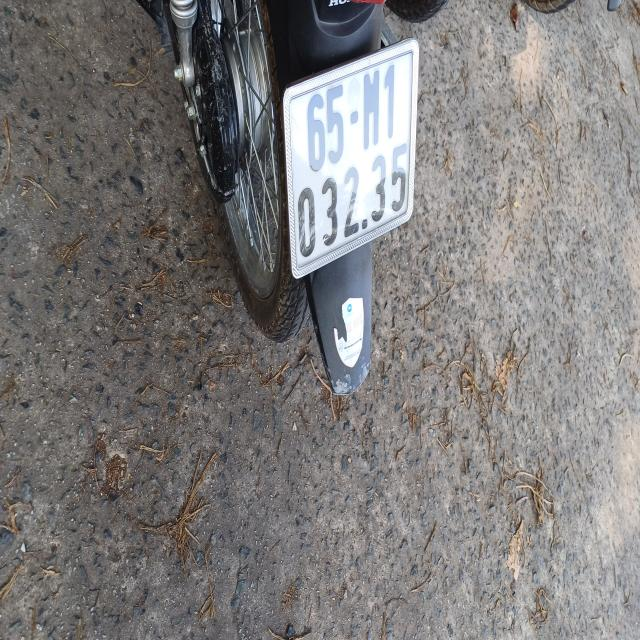0: (294, 187, 319, 253)
1: (380, 58, 398, 141)
2: (343, 166, 362, 235)
3: (319, 176, 338, 250), (369, 160, 389, 222)
5: (324, 85, 347, 171), (384, 134, 410, 210)
6: (302, 86, 327, 176)
M: (362, 70, 383, 150)
